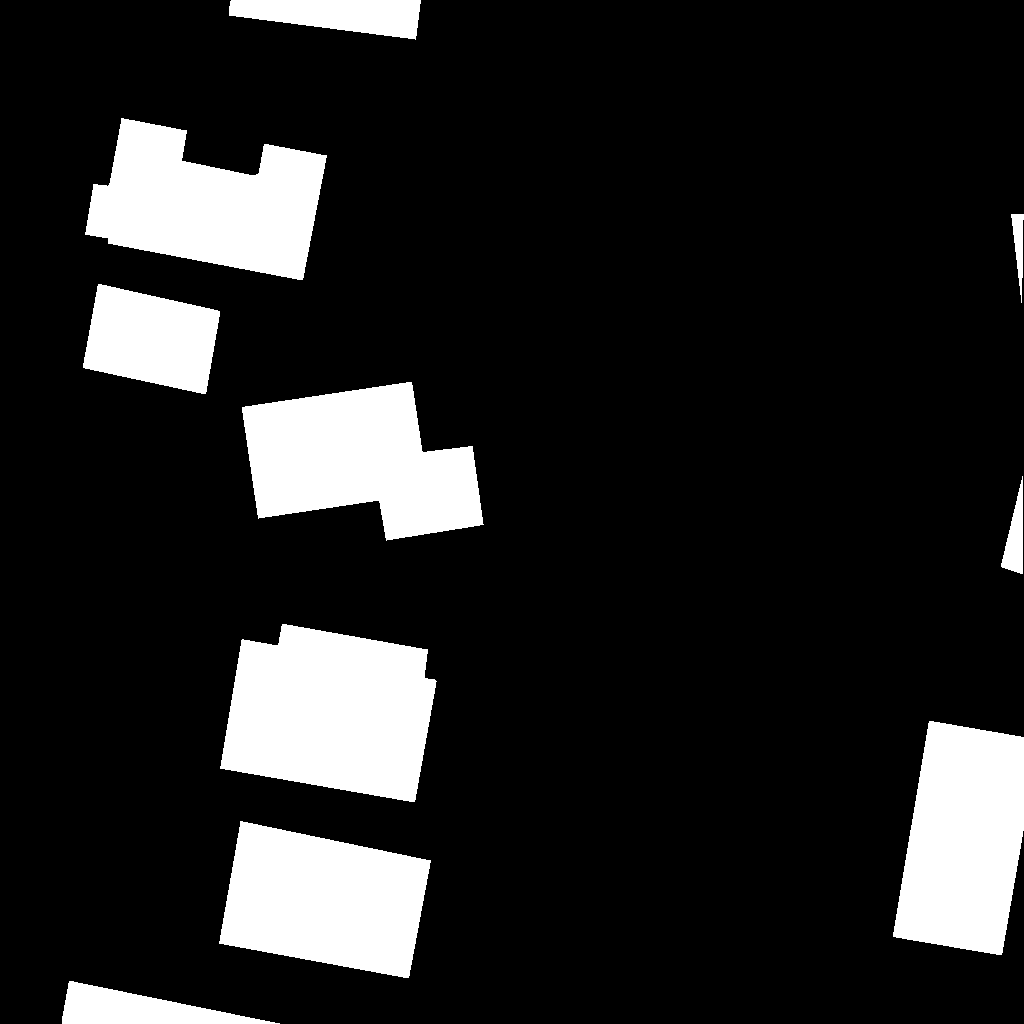building: (85, 118, 328, 281), (220, 624, 437, 803), (242, 382, 484, 541), (219, 821, 432, 979), (893, 721, 1024, 956), (83, 284, 221, 395), (62, 981, 281, 1024), (229, 0, 422, 40), (1001, 474, 1024, 575), (1011, 214, 1024, 308)
